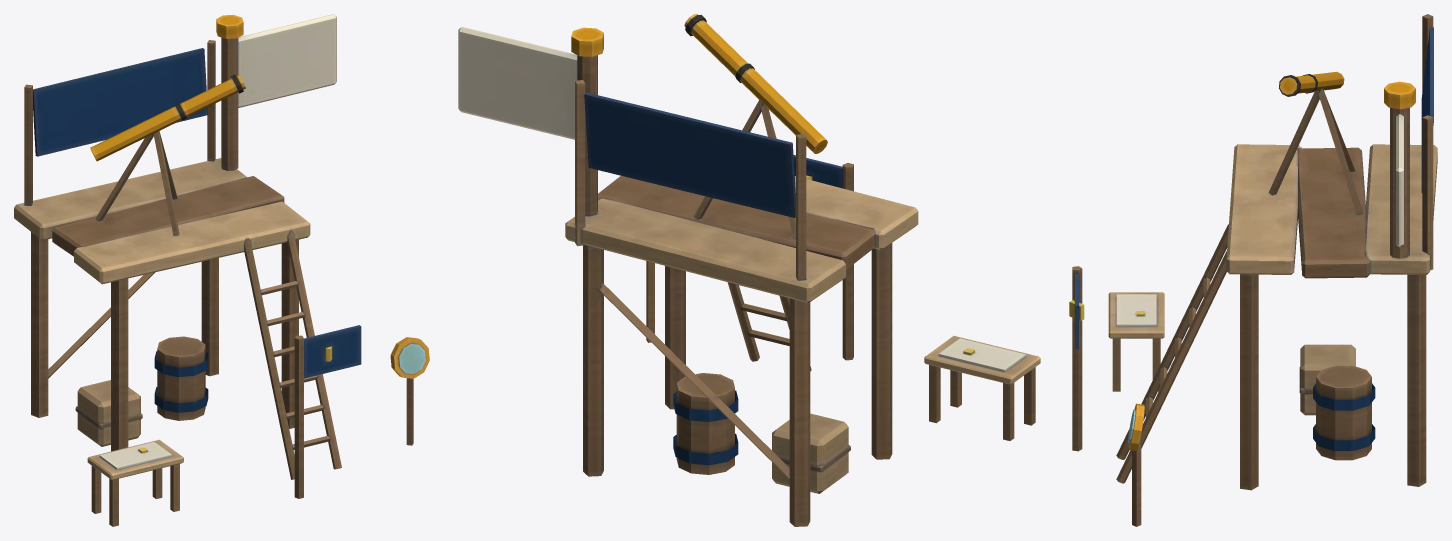
Rendered from observatory-1.glb.
3 views of the same model, side by side, from view 1: azimuth 30°, elevation 25°; view 2: azimuth 150°, elevation 25°; view 3: azimuth 270°, elevation 25° (orthographic). The views are drawn at different scales.
Parts seen in each view (by area): view 1: observatory-1; view 2: observatory-1; view 3: observatory-1.
Boxes of the visible parts, x1=… form: observatory-1: x1=14, y1=14, x2=429, y2=526; observatory-1: x1=458, y1=14, x2=1040, y2=526; observatory-1: x1=1069, y1=14, x2=1437, y2=526.
Bounding box in the file's own units: 1.16 × 1.11 × 0.924.
Materials: 1 (1 with a texture image).
